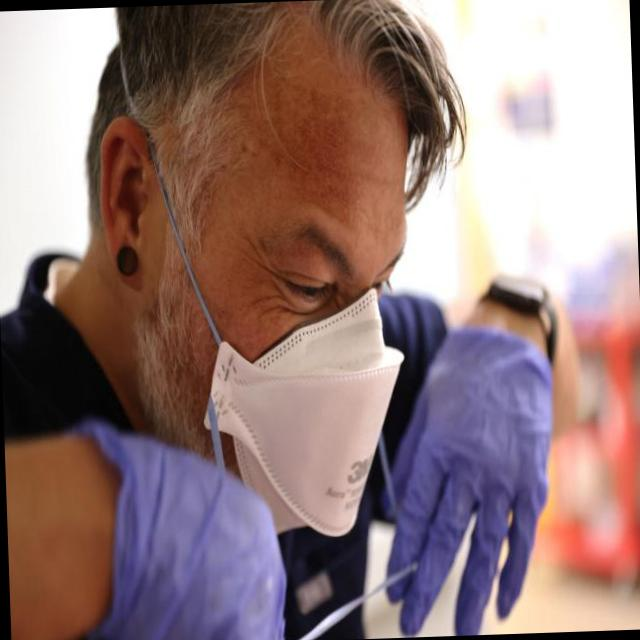Gloves: (373, 304, 568, 638), (89, 372, 293, 640)
